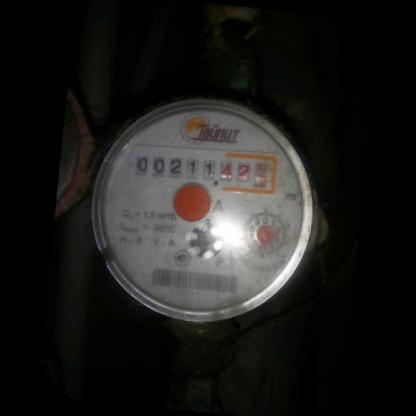digital_screen: (128, 142, 220, 186)
